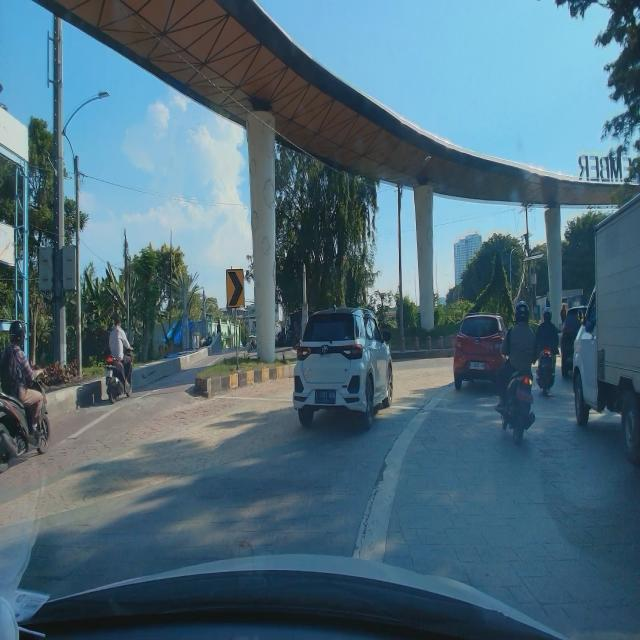car: (291, 301, 394, 430), (453, 313, 511, 390)
license-plate: (314, 390, 336, 403), (469, 362, 485, 370)
